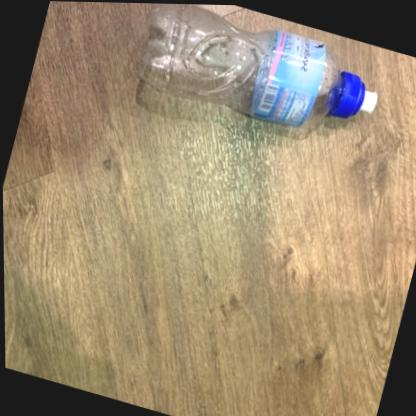Plastic: (136, 3, 375, 125)
